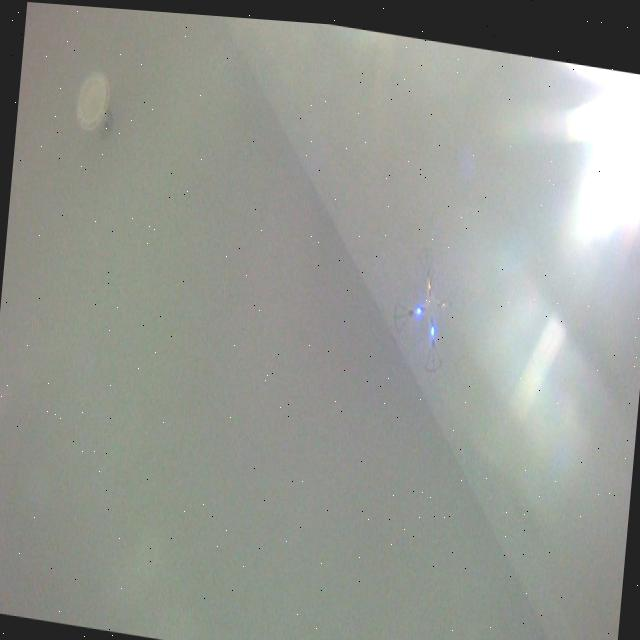drone: (386, 234, 471, 372)
